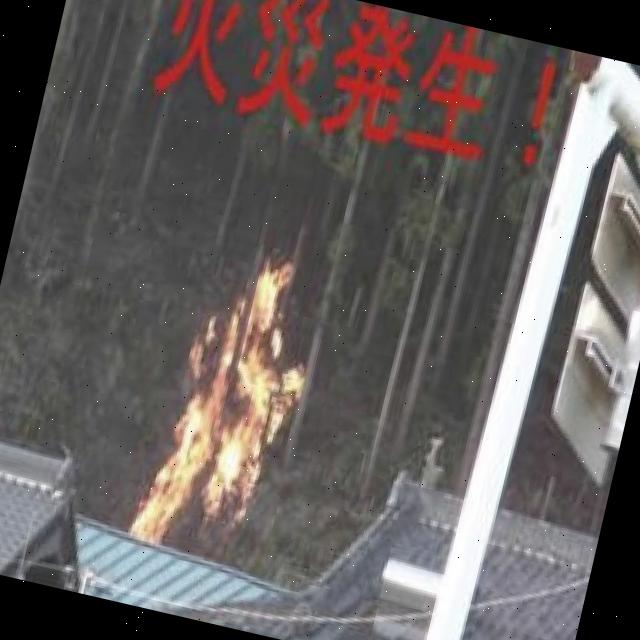fire: (134, 241, 338, 573)
